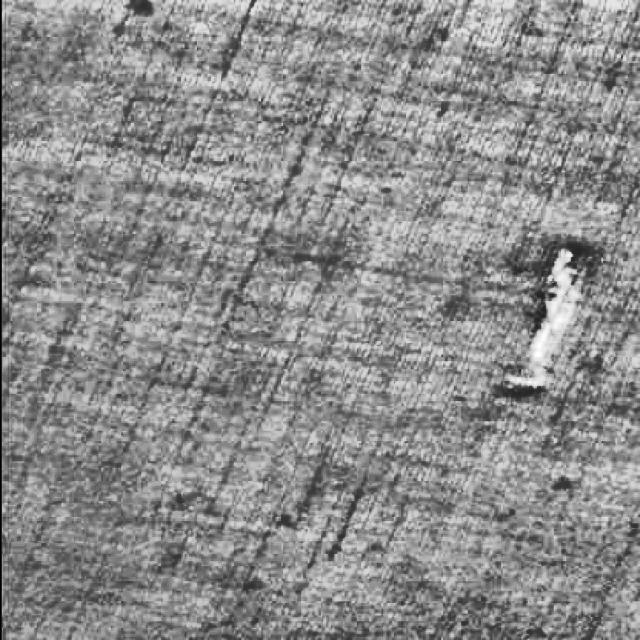hole: (493, 224, 599, 420)
